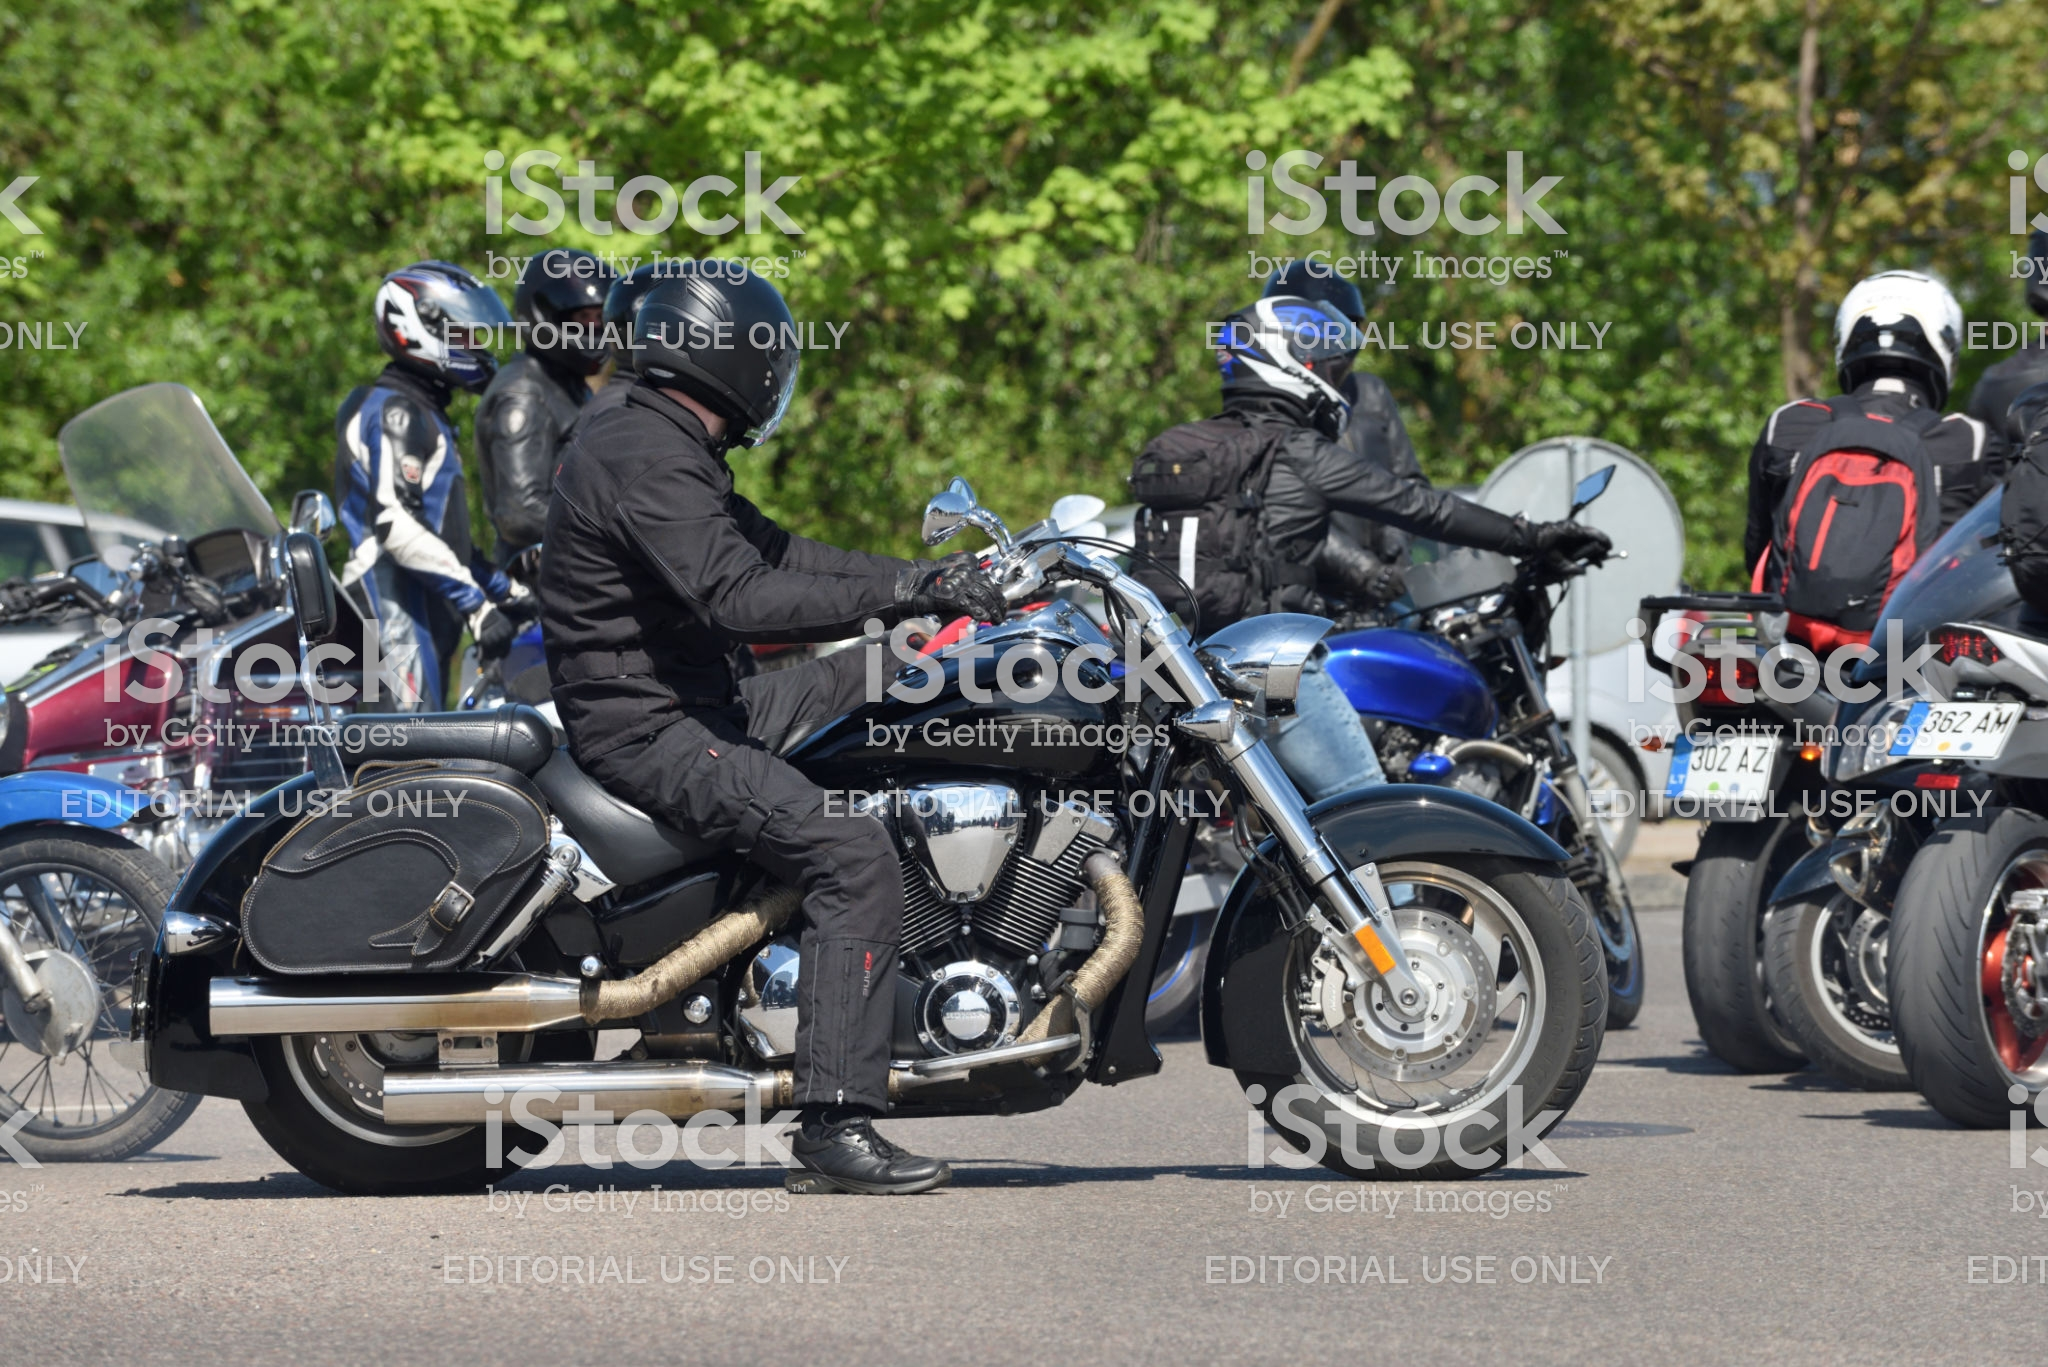helmet: (604, 232, 802, 409), (1189, 270, 1385, 420), (1812, 247, 2001, 395)
